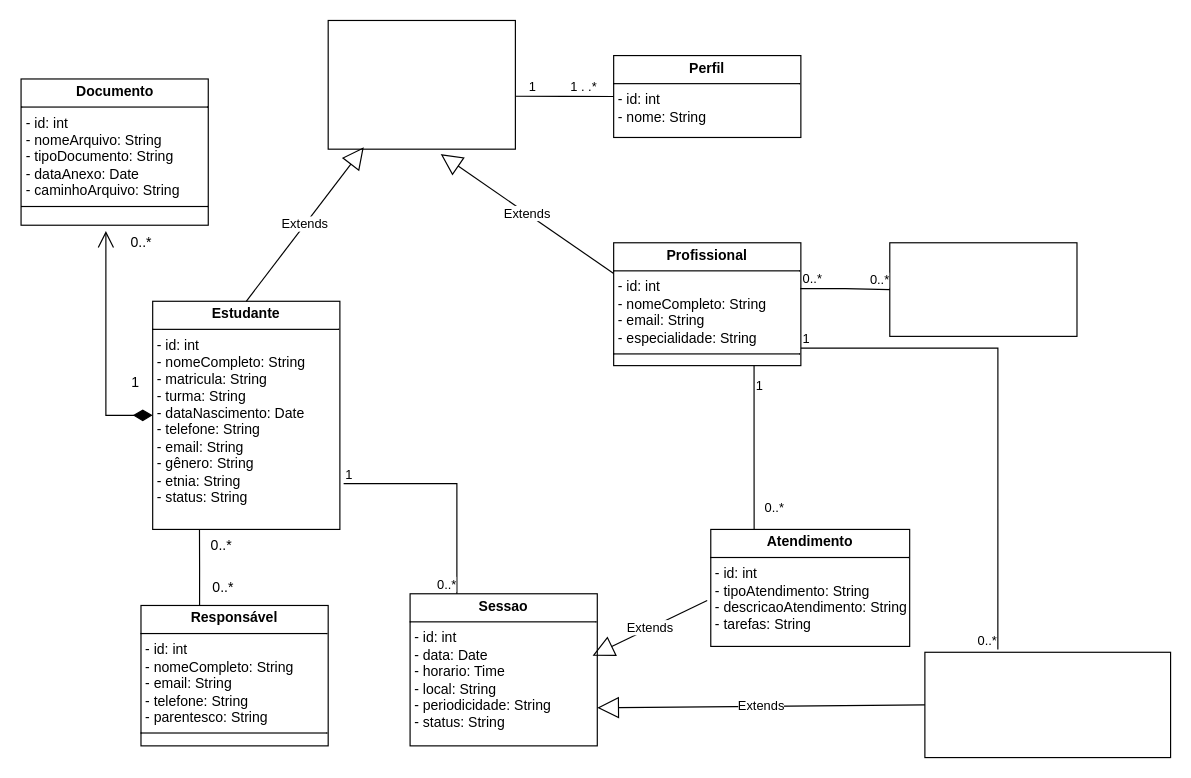
This 1191x778 diagram has some shape labels left out. Here are the shapes that lost their labels. From the top down, the box of each, then its label:
(327, 19, 515, 149): Usuario - id: int - login: String - senha: String - ativo: boolean
(889, 242, 1077, 336): Equipe - id: int - nome : String - descricao : String
(924, 651, 1171, 758): Acompanhamento - id: int - descricaoAcompanhamento: String - tarefas: String
